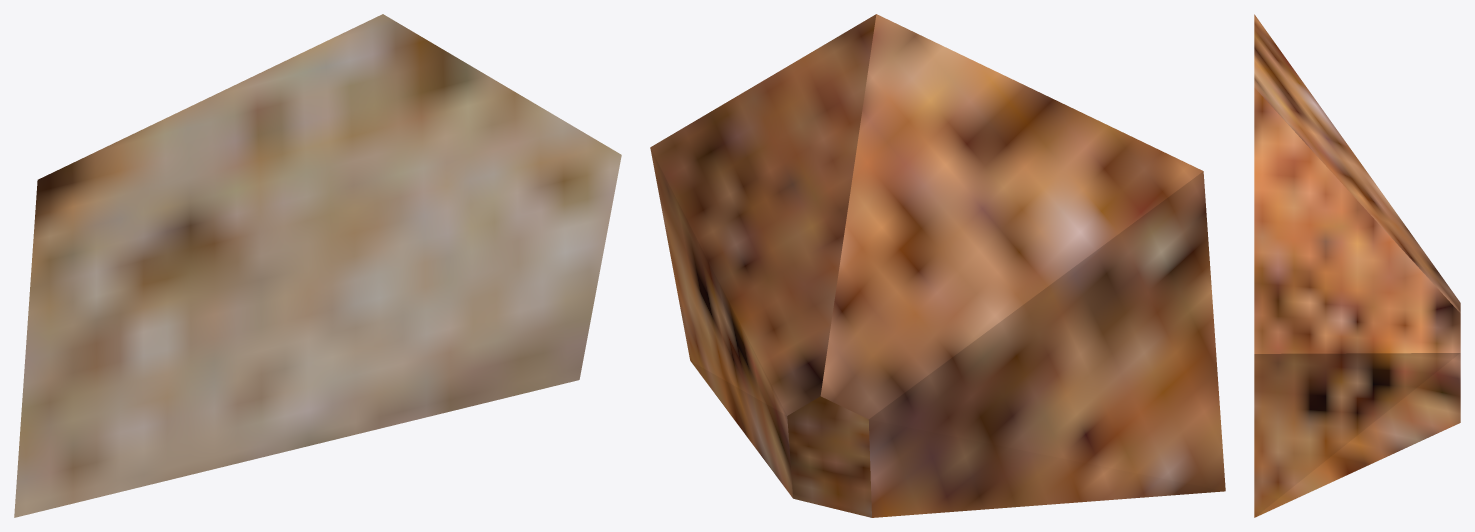
Rendered from Bread01f.obj.
3 views of the same model, side by side, from view 1: azimuth 30°, elevation 25°; view 2: azimuth 150°, elevation 25°; view 3: azimuth 270°, elevation 25° (orthographic). The views are drawn at different scales.
Parts seen in each view (by area): view 1: Bread01g; view 2: Bread01g; view 3: Bread01g.
Boxes of the visible parts, left/top/right/bottom form: Bread01g: left=14, top=14, right=621, bottom=517; Bread01g: left=650, top=14, right=1225, bottom=517; Bread01g: left=1254, top=14, right=1460, bottom=517.
Size of the model in its own units: 0.0984 by 0.0641 by 0.0343.
